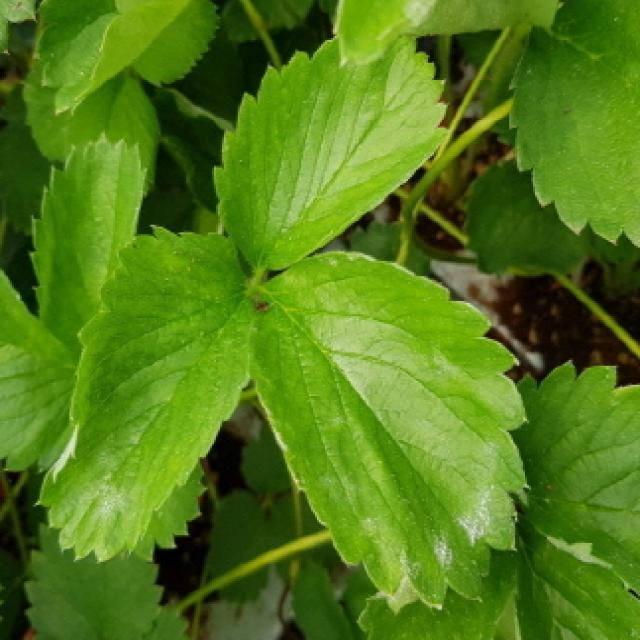Powdery Mildew Leaf: (246, 252, 530, 611), (36, 224, 250, 563), (331, 0, 440, 69)
